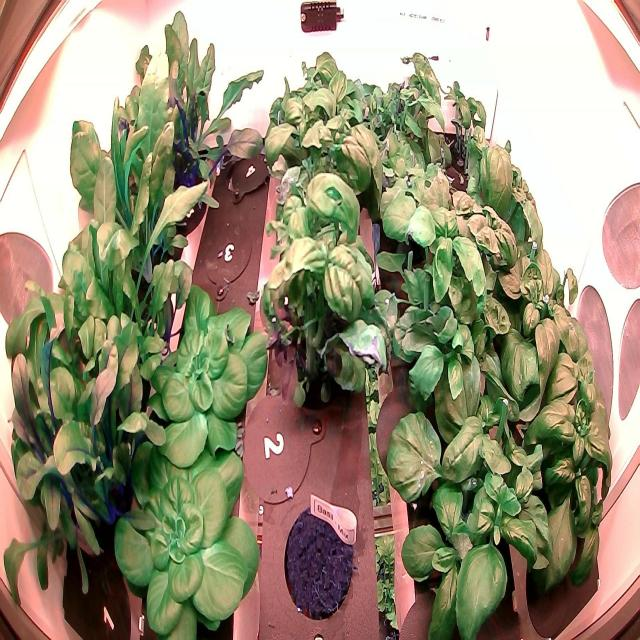empty_pod: (196, 205, 258, 311), (222, 135, 276, 204)
pod: (282, 488, 363, 622)
young: (108, 444, 268, 640), (138, 266, 273, 468)
